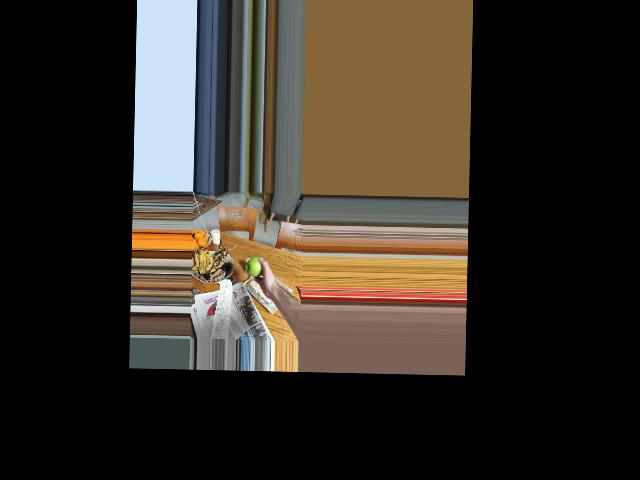apple: (245, 254, 267, 279)
